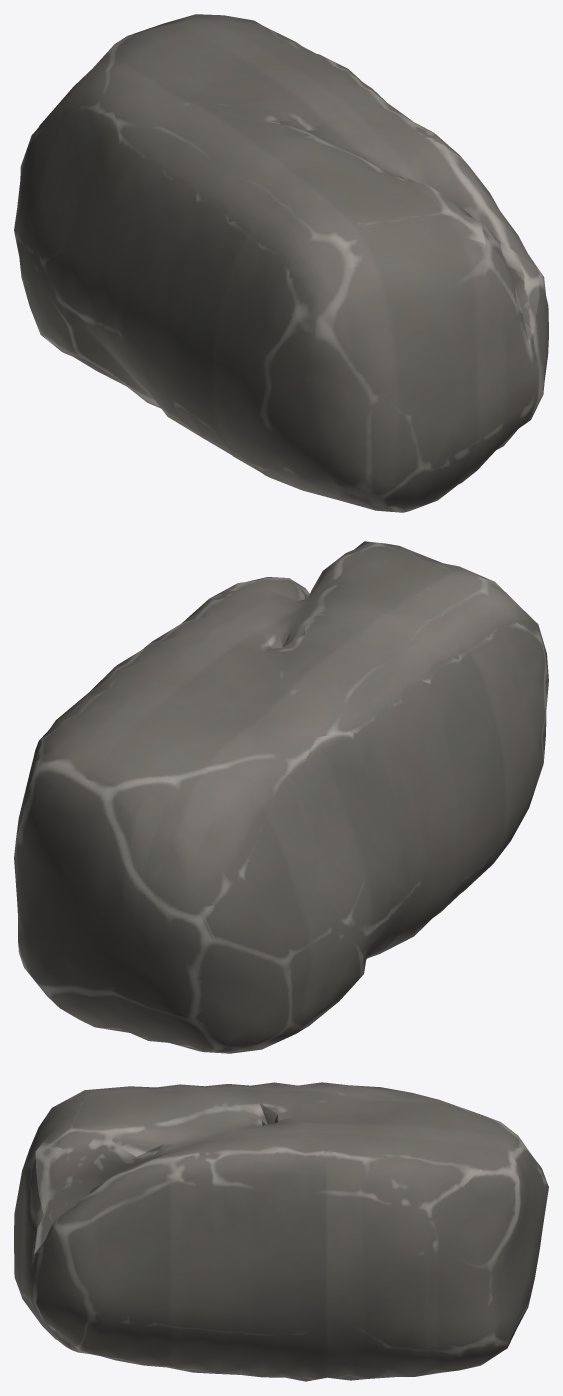
The model's file is SM_rock_small_01.glb.
3 renders of one model, top to bottom at view 1: azimuth 30°, elevation 25°; view 2: azimuth 150°, elevation 25°; view 3: azimuth 270°, elevation 25°, orthographic. The views are drawn at different scales.
Visible parts, largest first — view 1: SM_rock_small_01; view 2: SM_rock_small_01; view 3: SM_rock_small_01.
Part boxes in pixels (x1,y1,x2,y2): SM_rock_small_01: (14, 14, 548, 512); SM_rock_small_01: (14, 541, 548, 1053); SM_rock_small_01: (14, 1082, 548, 1381).
Bounding box in the file's own units: 0.8624 × 0.8771 × 1.67.
Materials: 1 (1 with a texture image).
